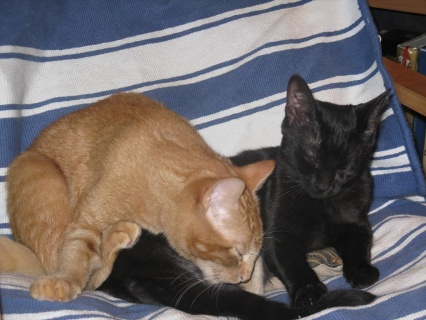Cat: (93, 75, 392, 319), (4, 91, 276, 313), (0, 219, 142, 290)
